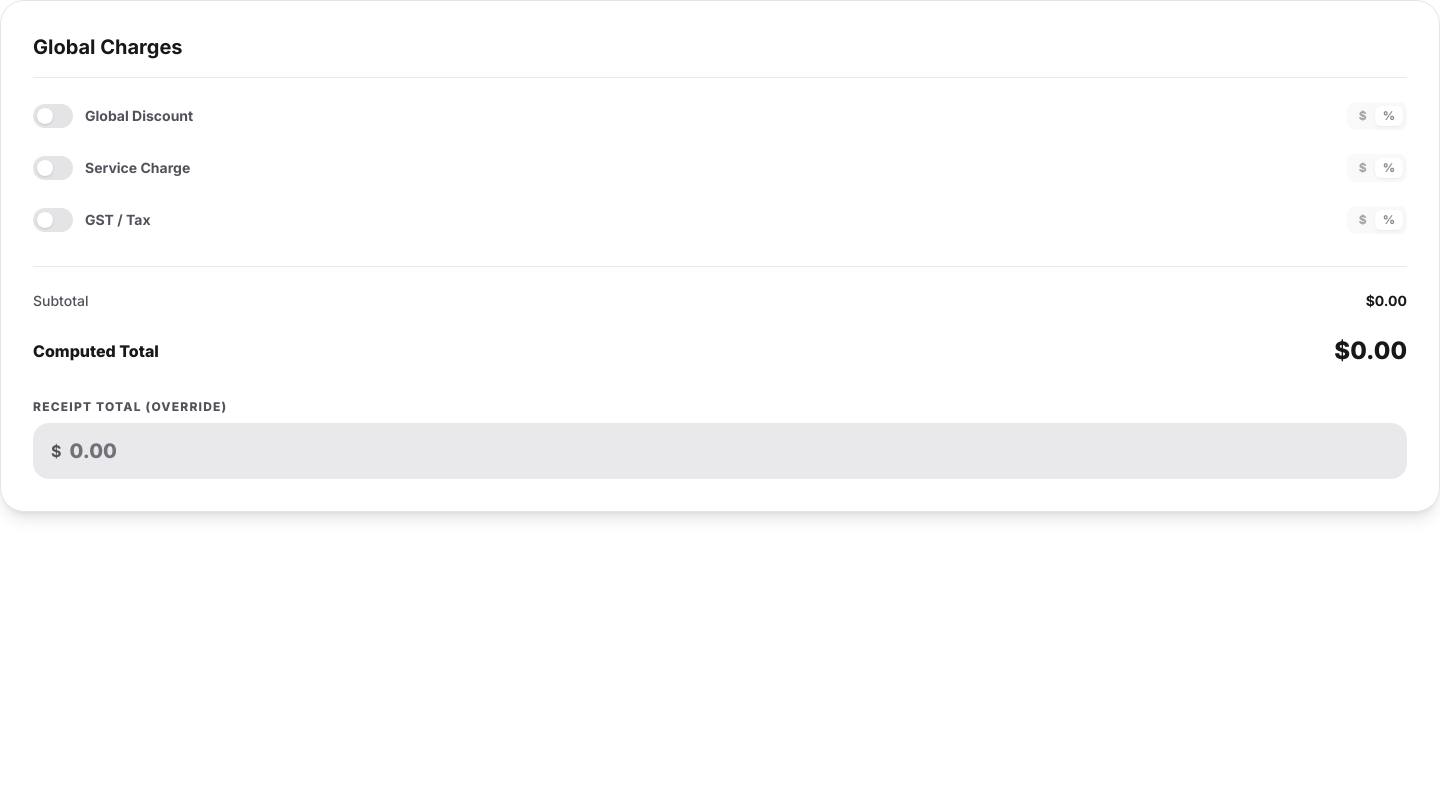
Test: keeps what the person types until they leave the receipt total
The image size is (1440, 810).
Step 1. Type "1234.5" into the field with test id "receipt-total-input" → (729, 451), box x1=70 y1=425 x2=1389 y2=477
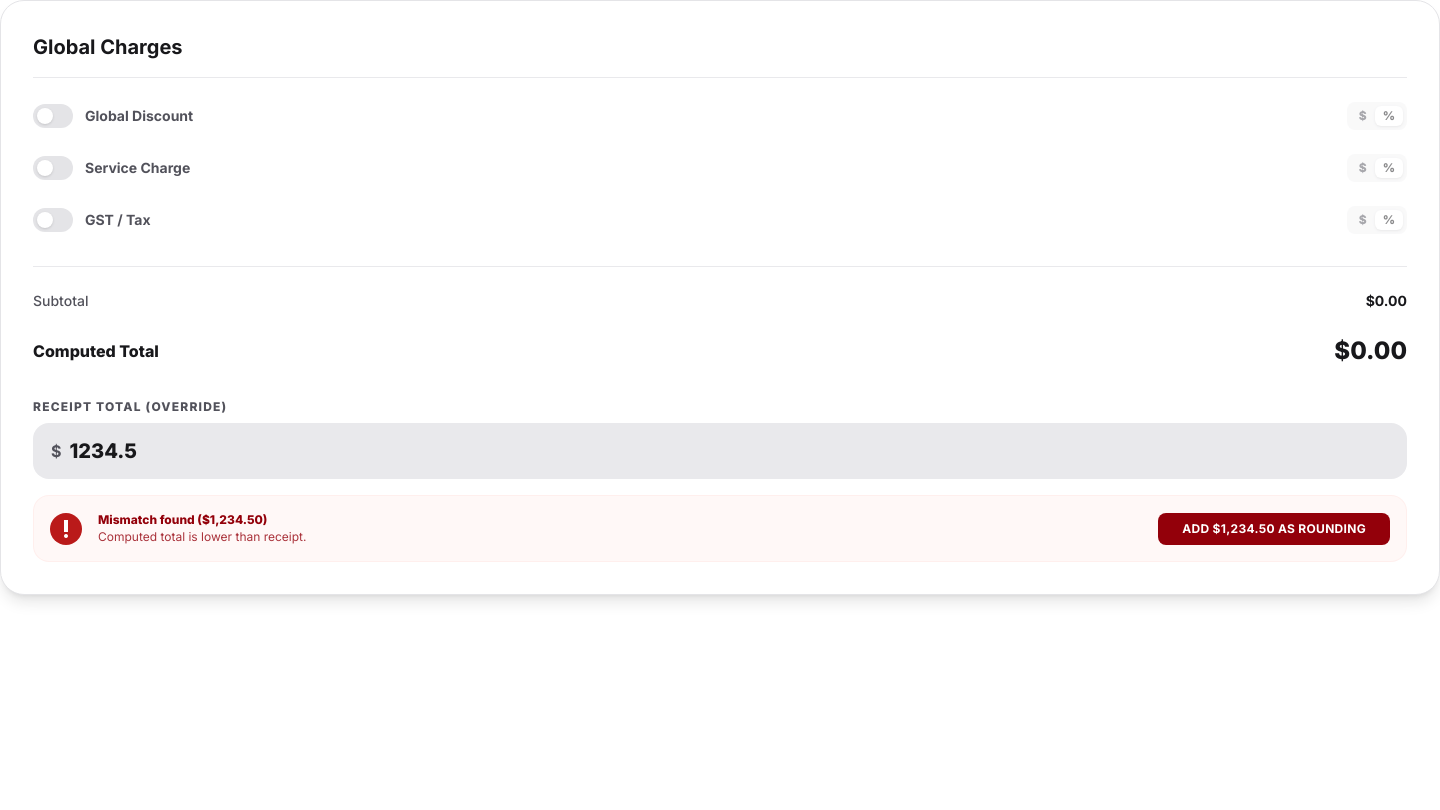
Step 2. Leave the field with test id "receipt-total-input", box x1=70 y1=425 x2=1389 y2=477
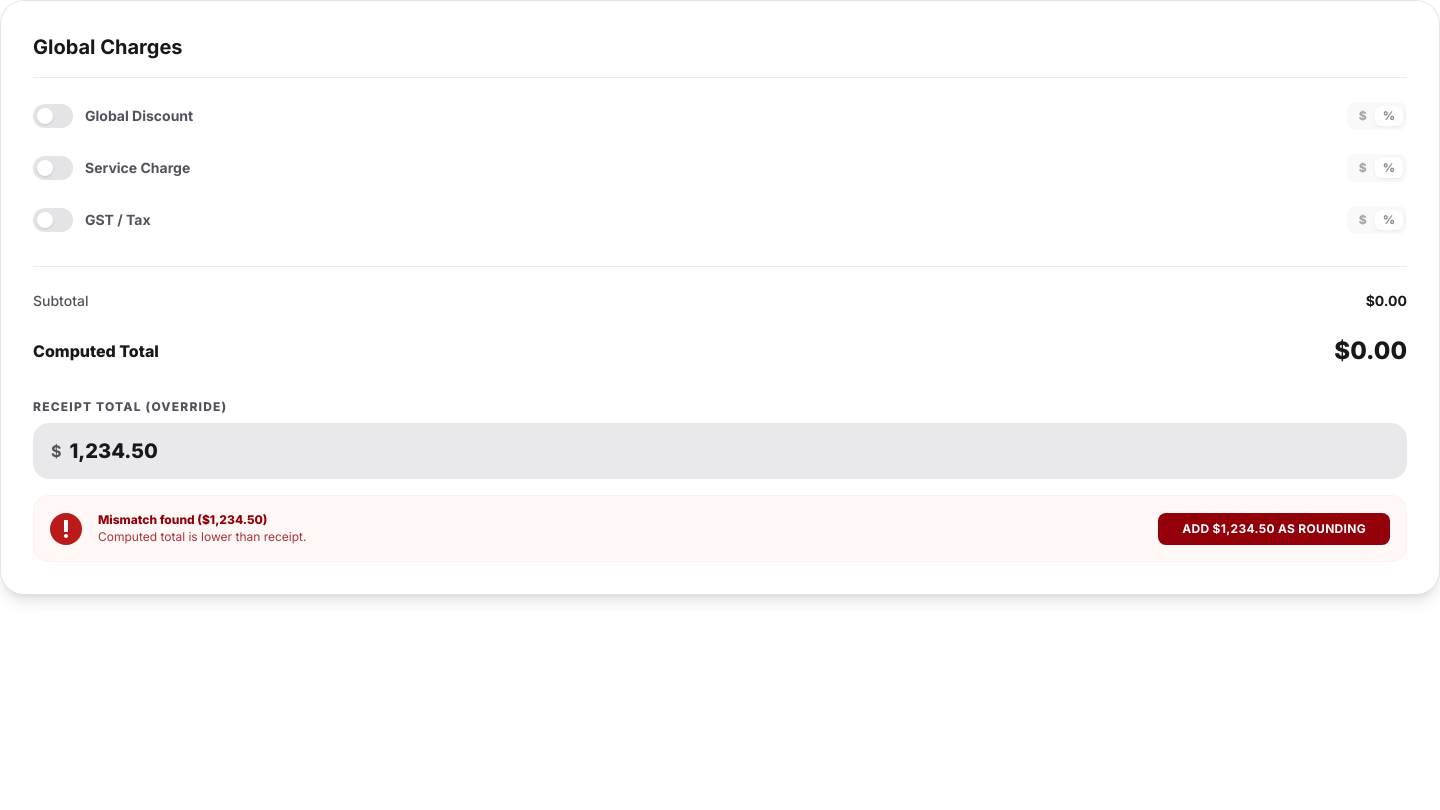
Expected: the field with test id "receipt-total-input" holds "1,234.50", x1=70 y1=425 x2=1389 y2=477
